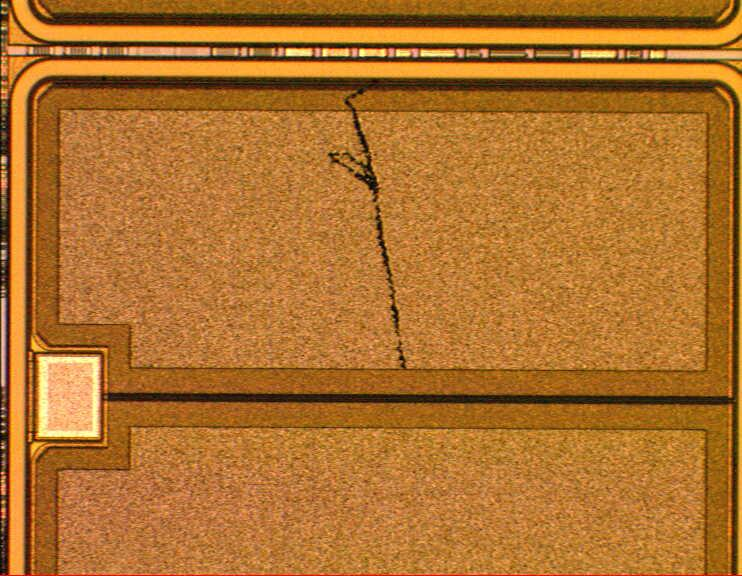SCRATCH: (317, 74, 418, 375)
